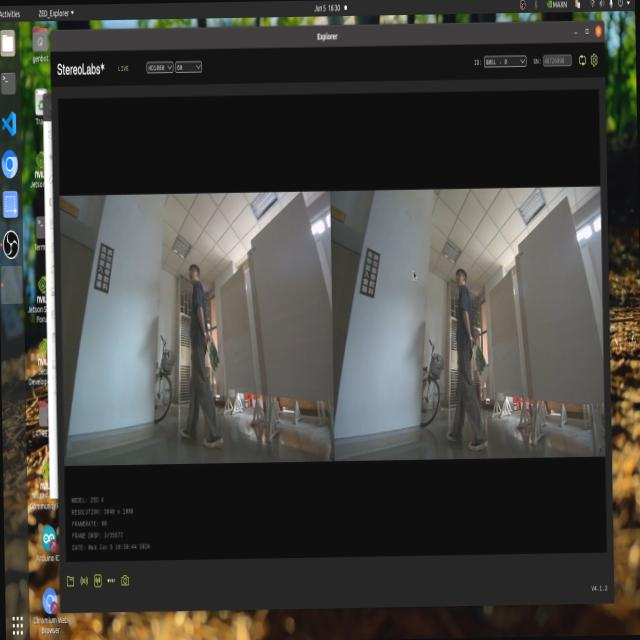green: (470, 342, 490, 384), (204, 340, 220, 378)
